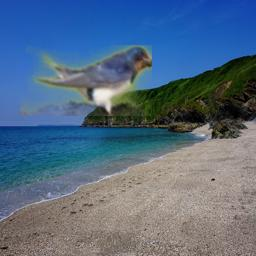Swallow: (20, 45, 152, 116)
